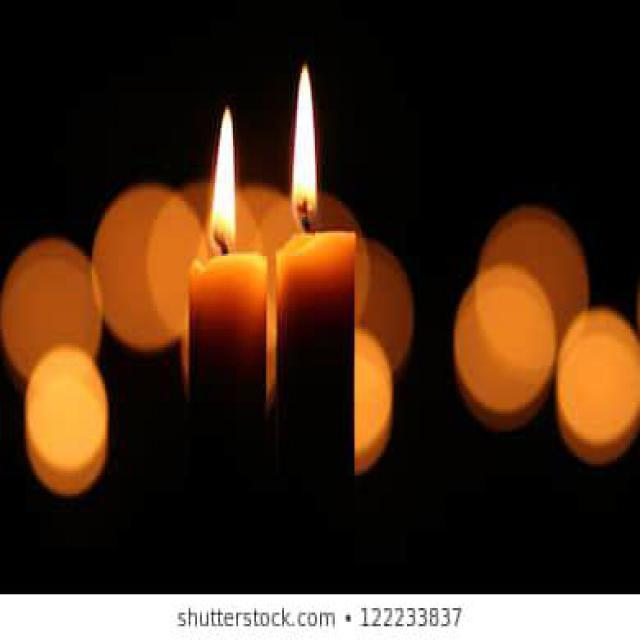Fire: (290, 68, 317, 220), (210, 108, 237, 245)
